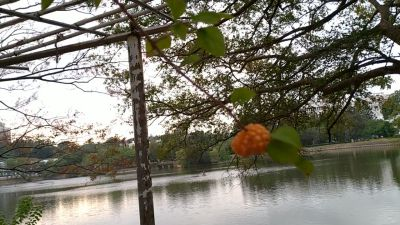eggs: (228, 120, 272, 159)
